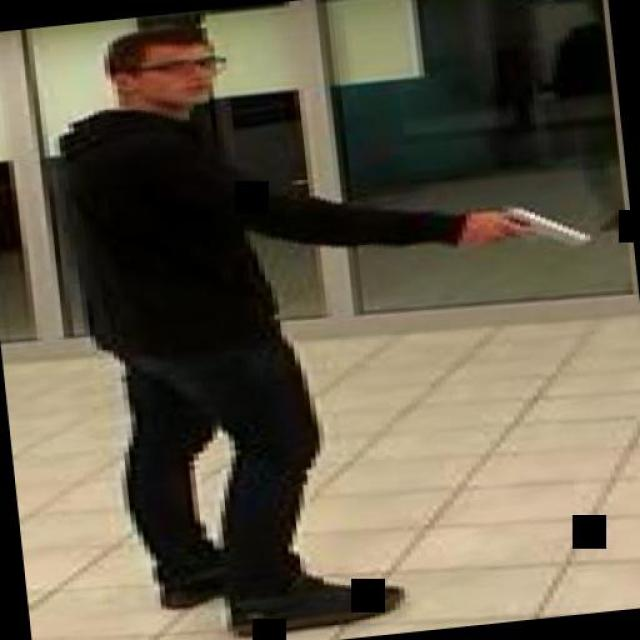gun: (465, 194, 586, 258)
